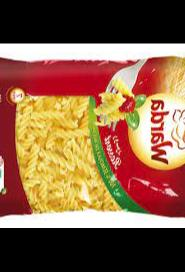Ressort: (0, 60, 185, 220)
